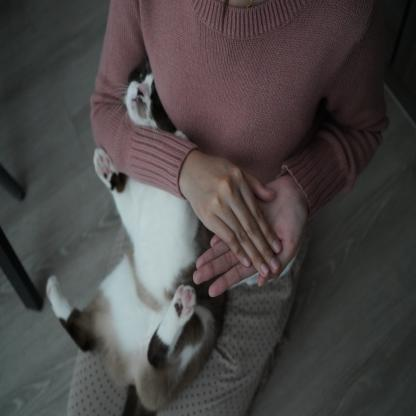Love: (172, 137, 316, 306)
